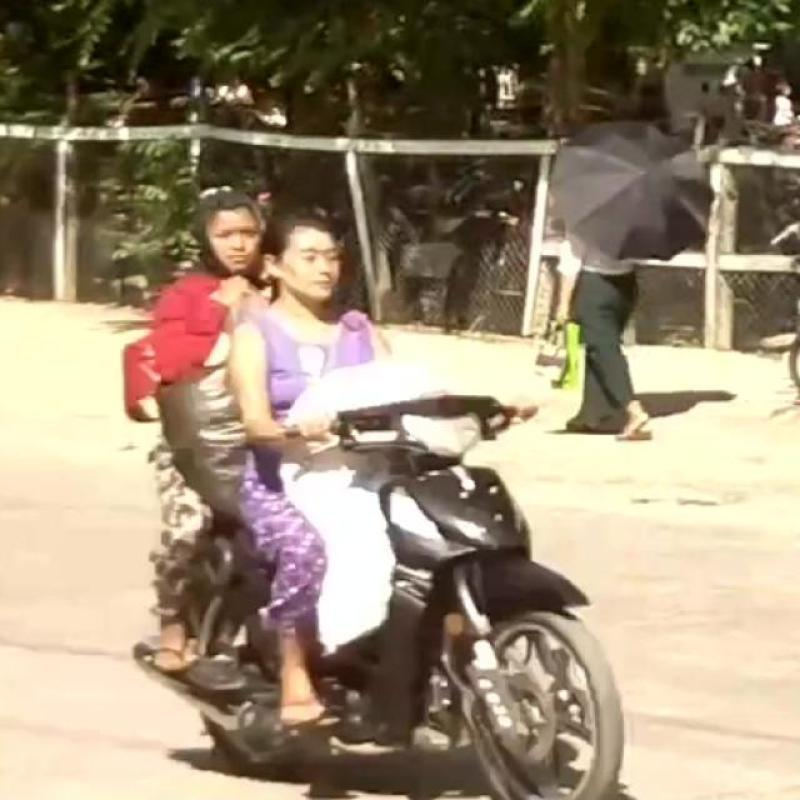nohelmet: (264, 202, 404, 314), (164, 172, 260, 288)
